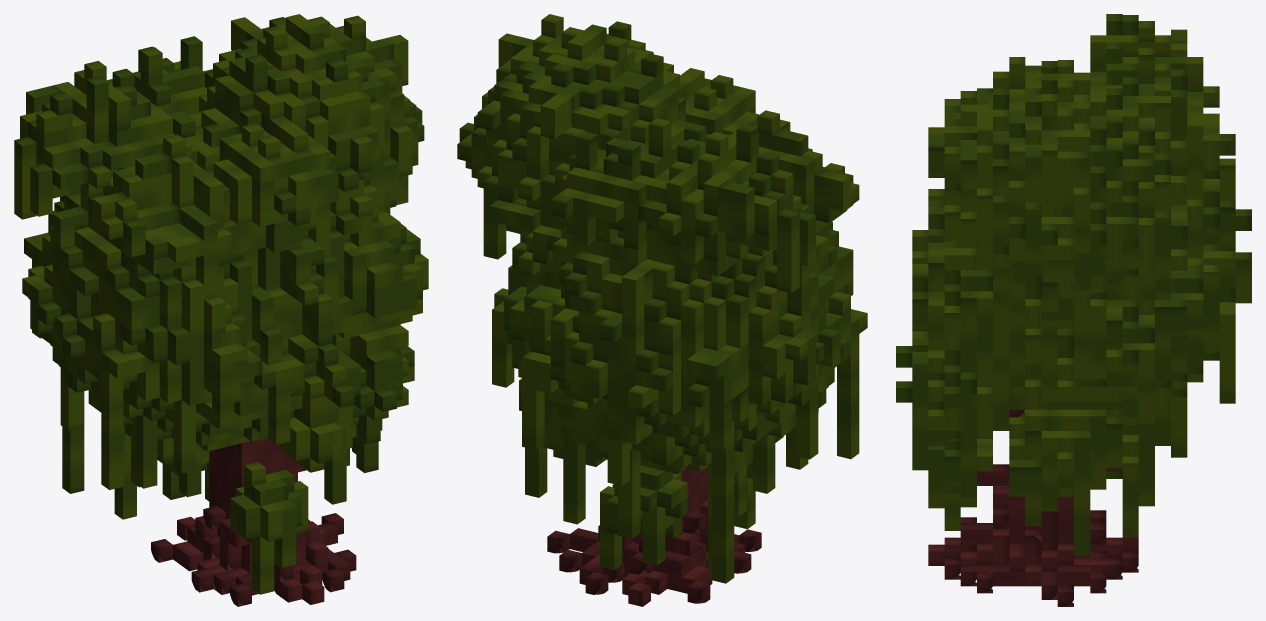
The model's file is drzewo_z_03.dae.
3 renders of one model, left to right at view 1: azimuth 30°, elevation 25°; view 2: azimuth 150°, elevation 25°; view 3: azimuth 270°, elevation 25°, orthographic.
Visible parts, largest first — view 1: Content; view 2: Content; view 3: Content.
Boxes of the visible parts, left/top/right/bottom form: Content: left=14, top=14, right=428, bottom=606; Content: left=457, top=14, right=867, bottom=606; Content: left=896, top=14, right=1251, bottom=606.
Size of the model in its own units: 25 by 35 by 22.
1 material, 1 textured.
